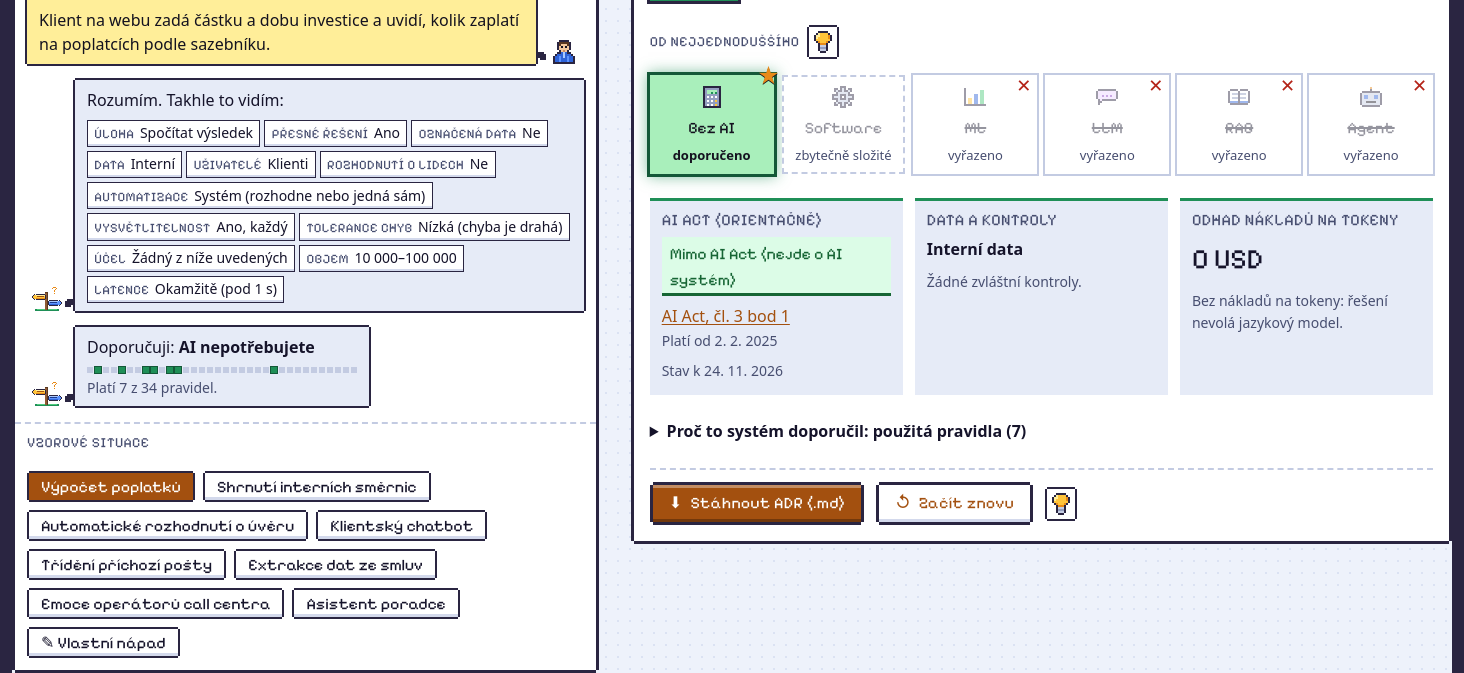
Scenario: IntakePage › a click on a fact reopens its question and recomputes, releasing the preset
(page scrolled)
Click the button "Shrnutí interních směrnic": coordinates (317, 486) [205,473,429,500]
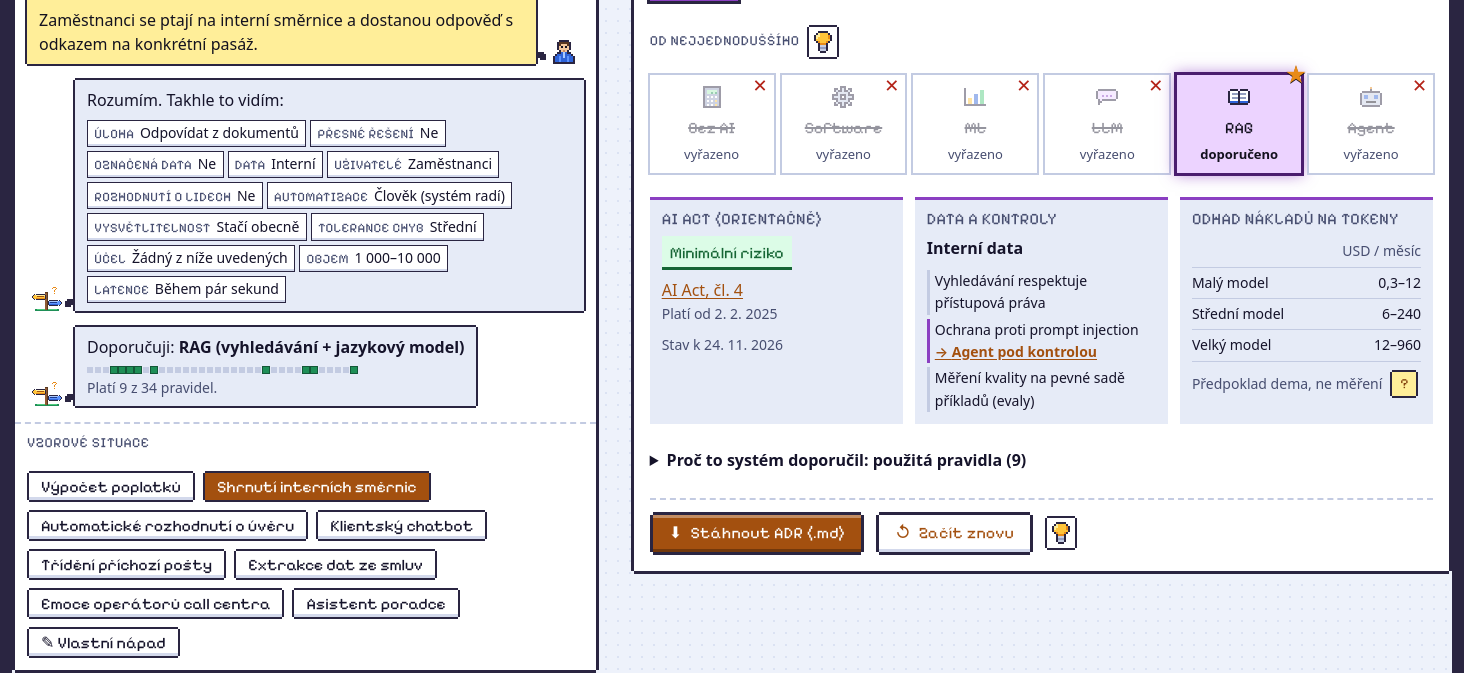
expect the text "RAG (vyhledávání + jazykový model)" is shown: met, box [179,336,464,358]
Note: Same task, but answerable by exact lookup: classic software instead of RAG.
Click the button "Přesné řešení Ne": coordinates (378, 133) [311,121,445,146]
(page scrolled)
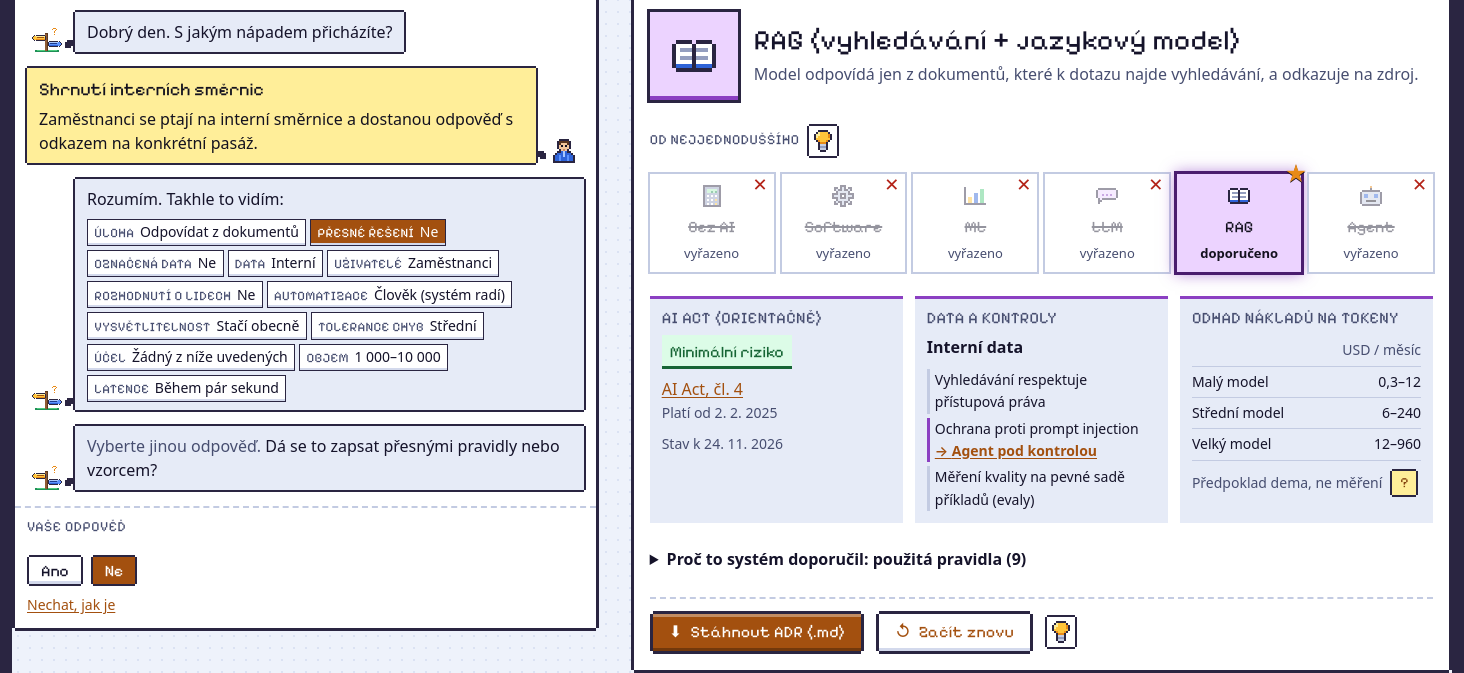
Click the button "Ano": coordinates (55, 570) [29,557,81,584]
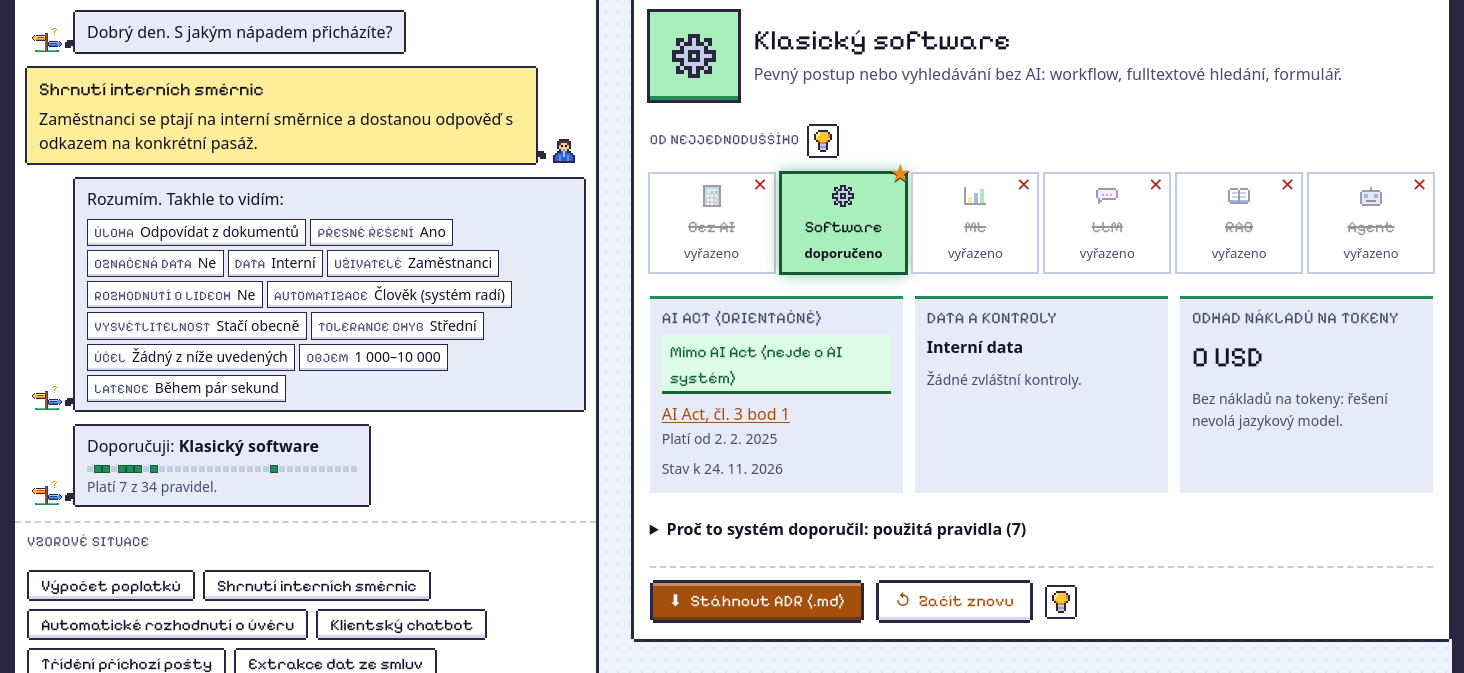
expect the text "Klasický software" is shown: met, box [179,435,319,457]
